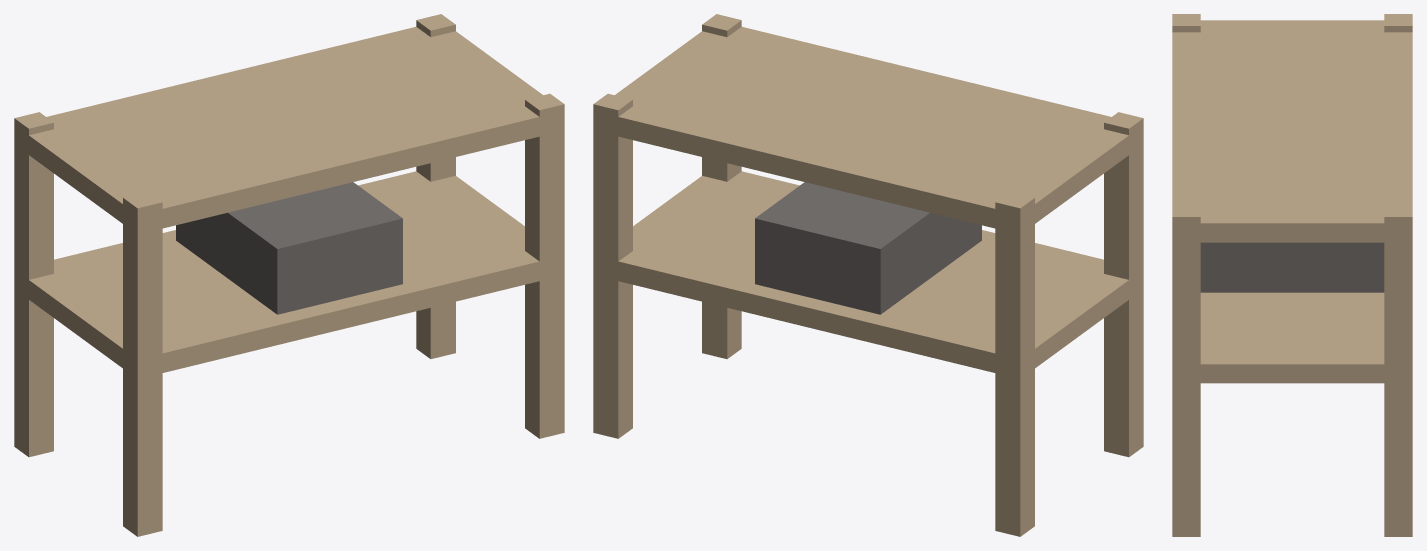
The model's file is mundane_shoe_rack.glb.
The picture shows the model from 3 angles, left to right: view 1: azimuth 30°, elevation 25°; view 2: azimuth 150°, elevation 25°; view 3: azimuth 270°, elevation 25°; orthographic projection. The views are drawn at different scales.
Size of the model in its own units: 0.68 by 0.5 by 0.34.
